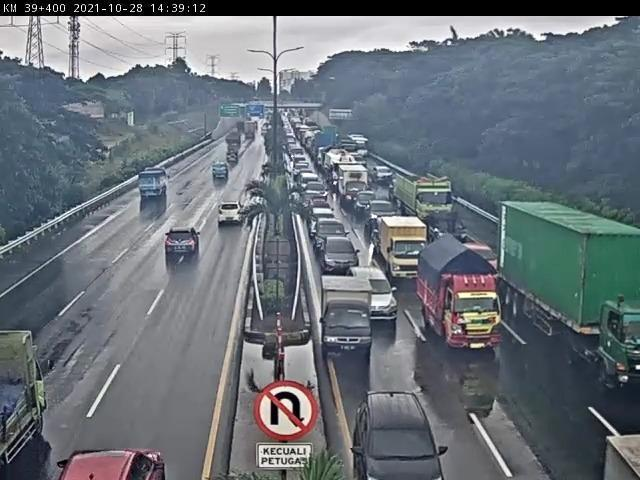car: (357, 391, 443, 480), (65, 446, 159, 480), (351, 263, 400, 324), (319, 234, 365, 273), (160, 223, 202, 263), (132, 168, 172, 207), (316, 219, 351, 256), (214, 197, 249, 231), (370, 199, 401, 229), (314, 210, 344, 238), (320, 218, 347, 238), (359, 193, 380, 214), (319, 305, 320, 306)
truck: (499, 197, 640, 381), (411, 238, 504, 345), (1, 332, 41, 476), (321, 271, 378, 352), (395, 171, 460, 228), (381, 218, 438, 277)
